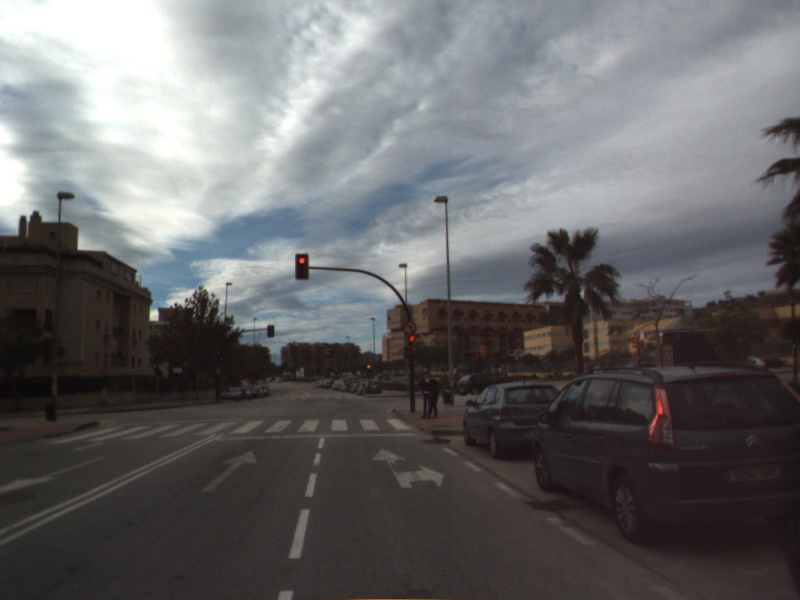STRAIGHT: (198, 448, 260, 495)
STRAIGHT_RIGHT: (369, 445, 446, 490)
